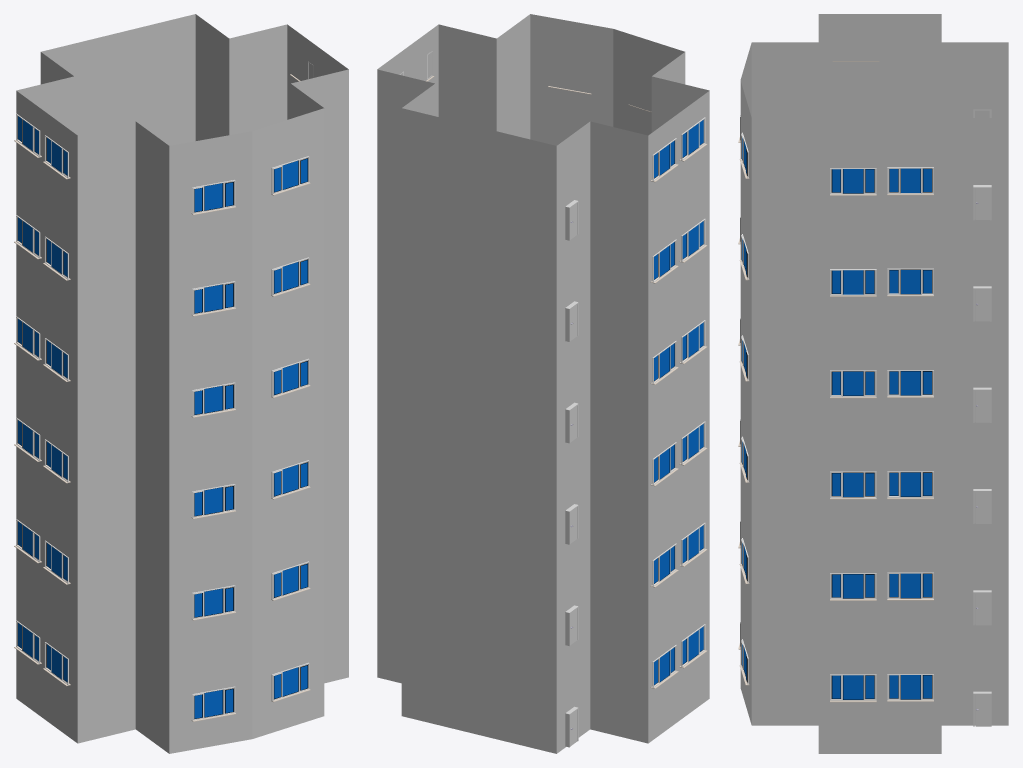
File: solene immeuble_crois02____.fbx
The picture shows the model from 3 angles, left to right: view 1: azimuth 30°, elevation 25°; view 2: azimuth 150°, elevation 25°; view 3: azimuth 270°, elevation 25°; orthographic projection.
Parts seen in each view (by area): view 1: Plane.019; view 2: Plane.019; view 3: Plane.019.
Part boxes in pixels (<box>): Plane.019: <box>14,14,348,753</box>; Plane.019: <box>377,14,709,753</box>; Plane.019: <box>738,14,1008,753</box>.
Size of the model in its own units: 288 by 600 by 242.
